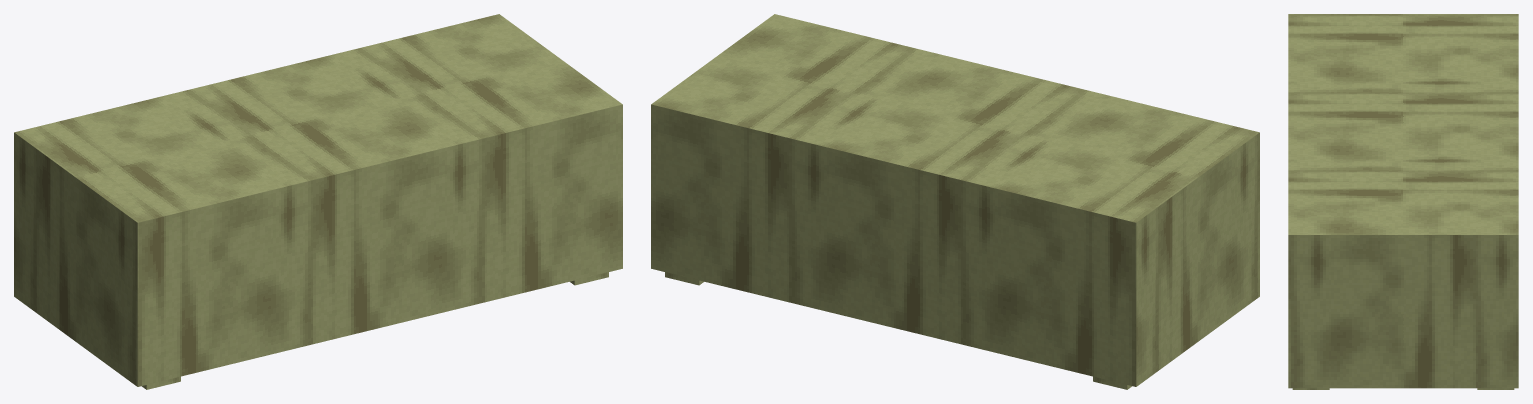
Rendered from Bathtub.fbx.
3 views of the same model, side by side, from view 1: azimuth 30°, elevation 25°; view 2: azimuth 150°, elevation 25°; view 3: azimuth 270°, elevation 25° (orthographic). The views are drawn at different scales.
Visible parts, largest first — view 1: Bathtub_Body; view 2: Bathtub_Body; view 3: Bathtub_Body.
Part boxes in pixels (left/top/right/bottom): Bathtub_Body: left=14, top=14, right=622, bottom=389; Bathtub_Body: left=651, top=14, right=1259, bottom=389; Bathtub_Body: left=1288, top=14, right=1518, bottom=389.
Bounding box in the file's own units: 1.7 × 0.575 × 0.75.
Materials: 2 (2 with a texture image).
